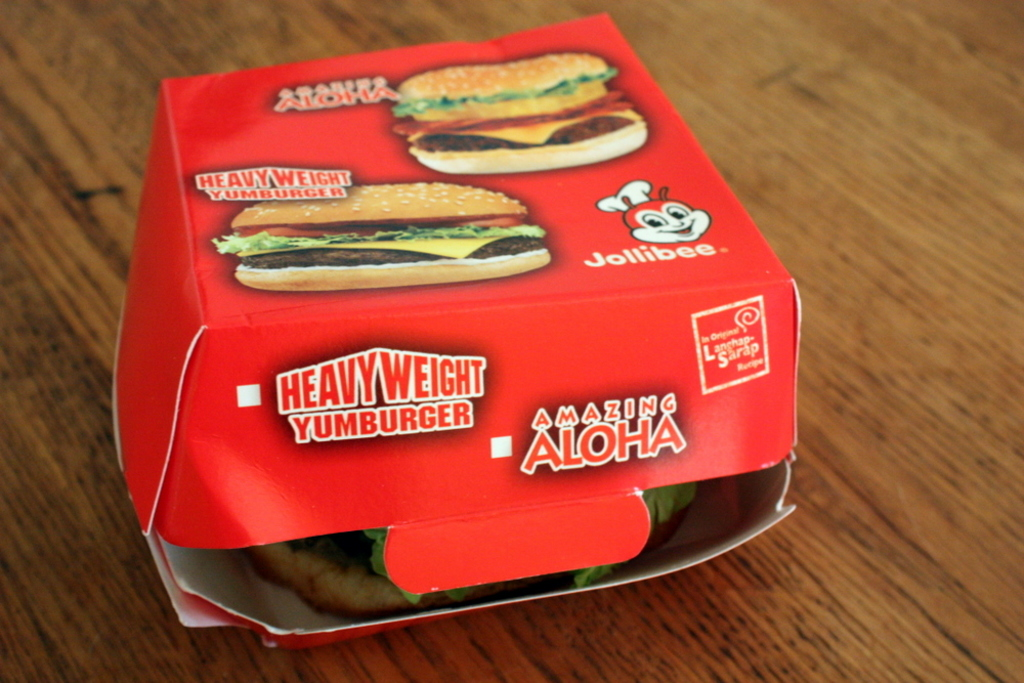hot_dog: (205, 172, 543, 292)
